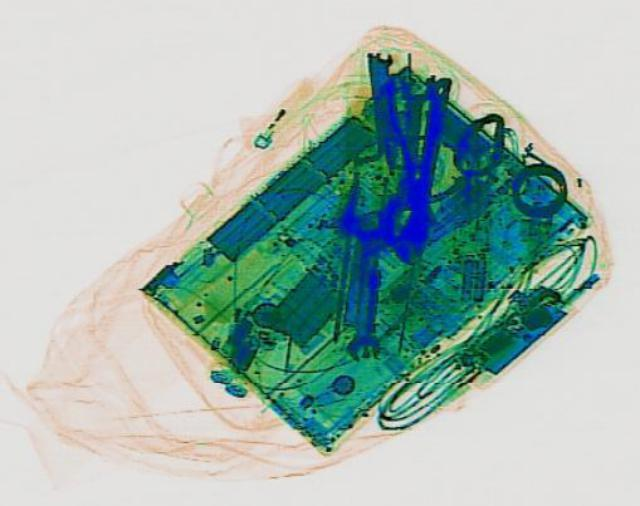Wrench: (342, 209, 393, 359)
